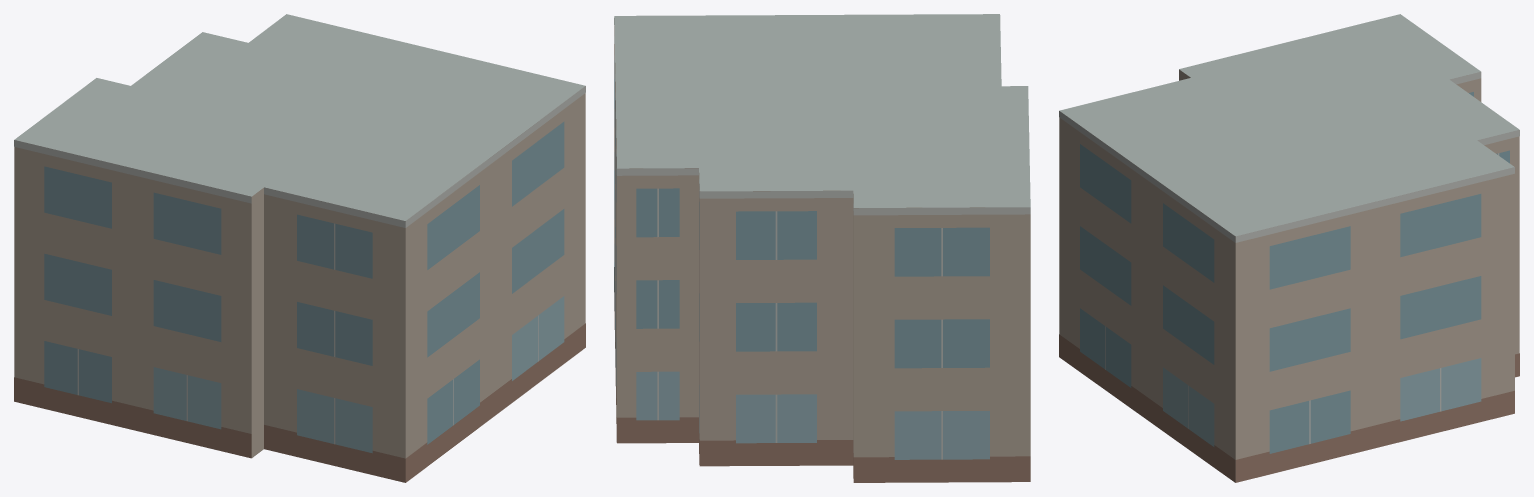
Rendered from survey-upis-32706642.glb.
3 renders of one model, left to right at view 1: azimuth 30°, elevation 25°; view 2: azimuth 150°, elevation 25°; view 3: azimuth 270°, elevation 25°, orthographic. The views are drawn at different scales.
Parts seen in each view (by area): view 1: survey-upis-32706642.tmp; view 2: survey-upis-32706642.tmp; view 3: survey-upis-32706642.tmp.
Part boxes in pixels (x1=…): survey-upis-32706642.tmp: x1=14, y1=14, x2=585, y2=482; survey-upis-32706642.tmp: x1=614, y1=14, x2=1030, y2=482; survey-upis-32706642.tmp: x1=1059, y1=14, x2=1519, y2=482.
Bounding box in the file's own units: 17.72 × 9.15 × 15.51.
